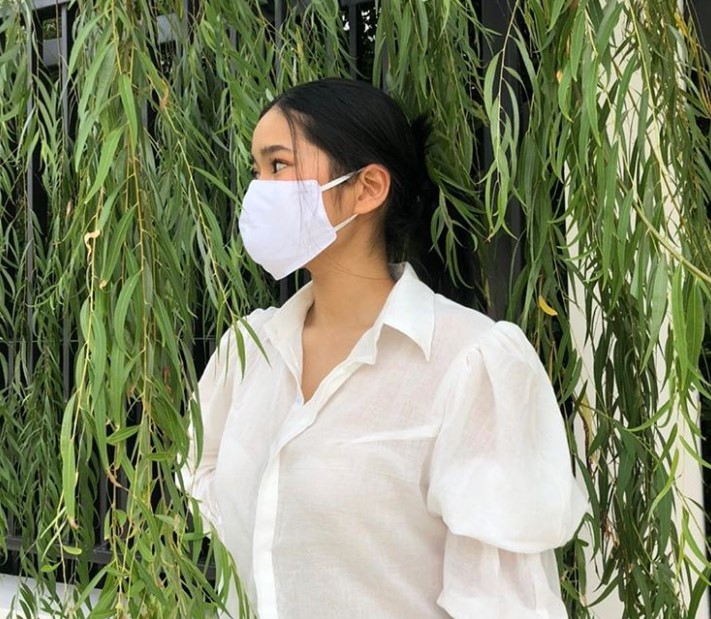face_with_mask: (237, 78, 423, 283)
